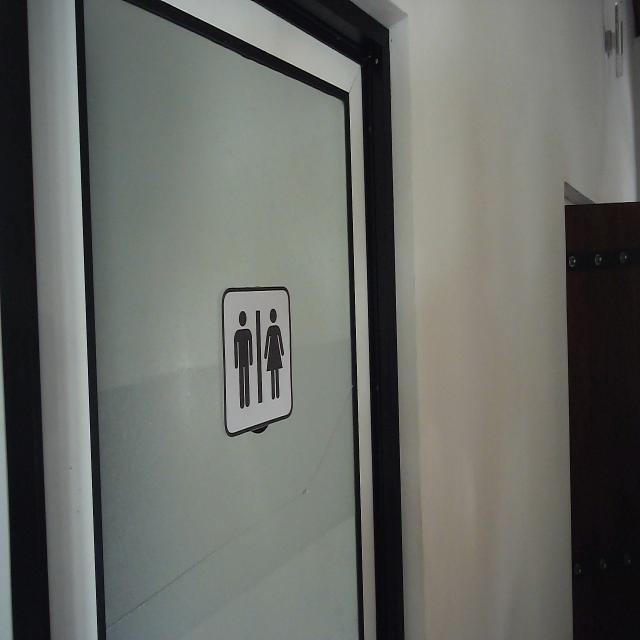restroom: (220, 281, 295, 440)
